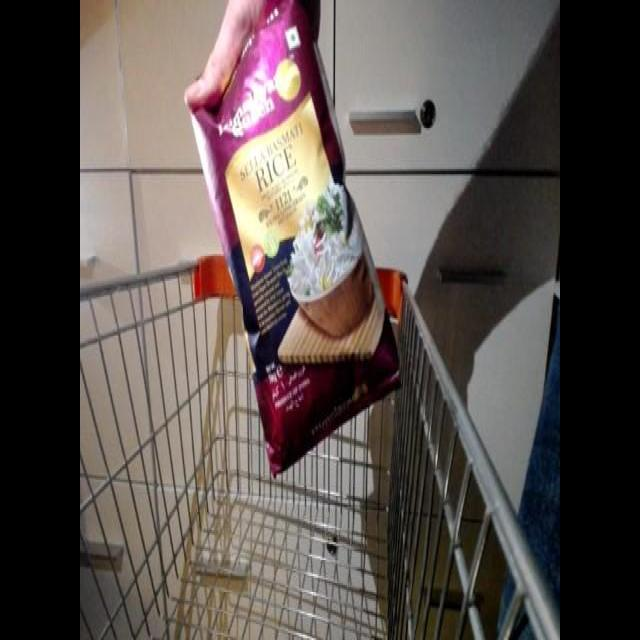Basmati Rice: (184, 7, 414, 430)
